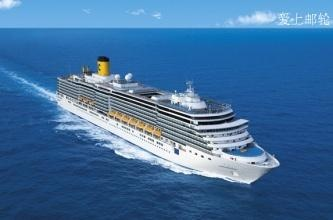youlun: (47, 47, 283, 186)
